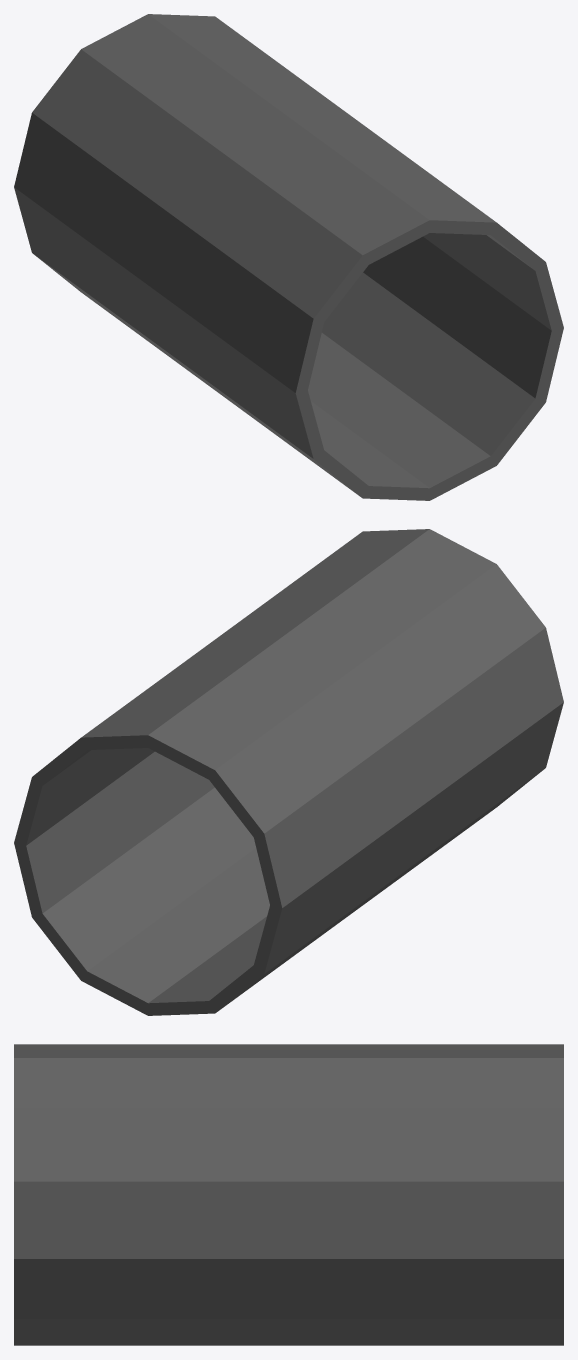
The model's file is Pipe_Straight.fbx.
3 views of the same model, one above another, from view 1: azimuth 30°, elevation 25°; view 2: azimuth 150°, elevation 25°; view 3: azimuth 270°, elevation 25° (orthographic). The views are drawn at different scales.
Visible parts, largest first — view 1: Cone.005; view 2: Cone.005; view 3: Cone.005.
Boxes of the visible parts, x1,y1,x2,y2 form: Cone.005: (14, 14, 563, 500); Cone.005: (14, 529, 563, 1015); Cone.005: (14, 1044, 563, 1345).
Bounding box in the file's own units: 110 × 110 × 200.
